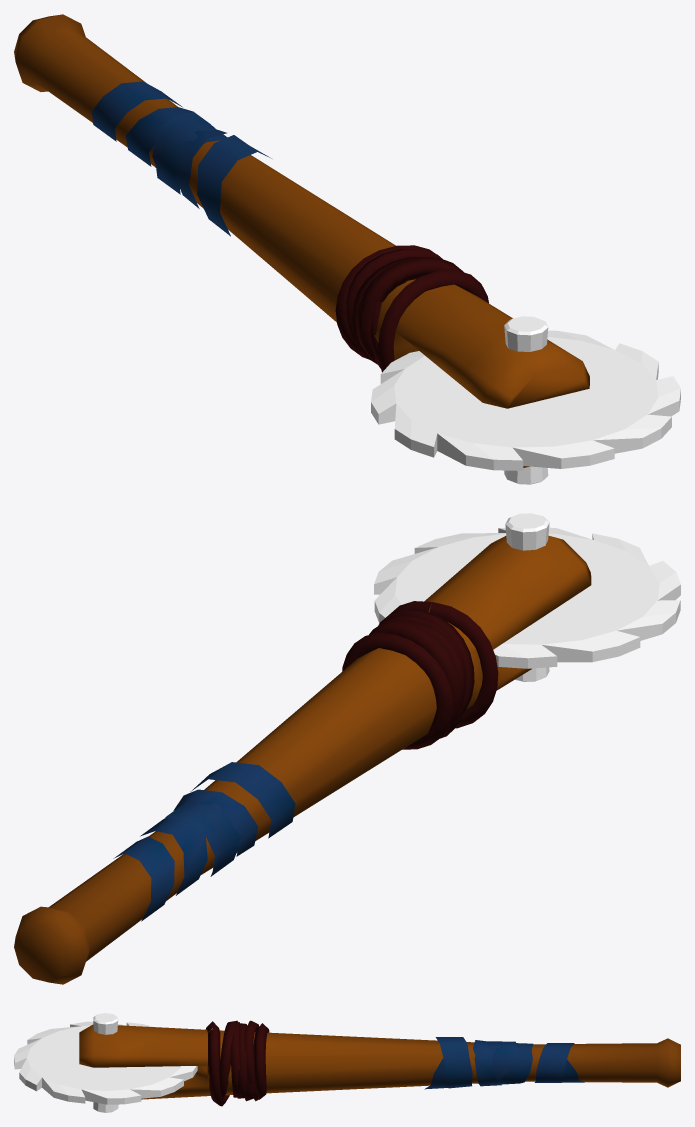
The model's file is WoodenBat_Saw.glb.
3 renders of one model, top to bottom at view 1: azimuth 30°, elevation 25°; view 2: azimuth 150°, elevation 25°; view 3: azimuth 270°, elevation 25°, orthographic. The views are drawn at different scales.
Parts seen in each view (by area): view 1: WoodenBat_Saw; view 2: WoodenBat_Saw; view 3: WoodenBat_Saw.
Part boxes in pixels (box(x1,y1,x2,y2)): WoodenBat_Saw: box(14, 14, 680, 484); WoodenBat_Saw: box(14, 513, 680, 984); WoodenBat_Saw: box(14, 1013, 680, 1112).
Size of the model in its own units: 0.3756 by 0.2056 by 1.37.
